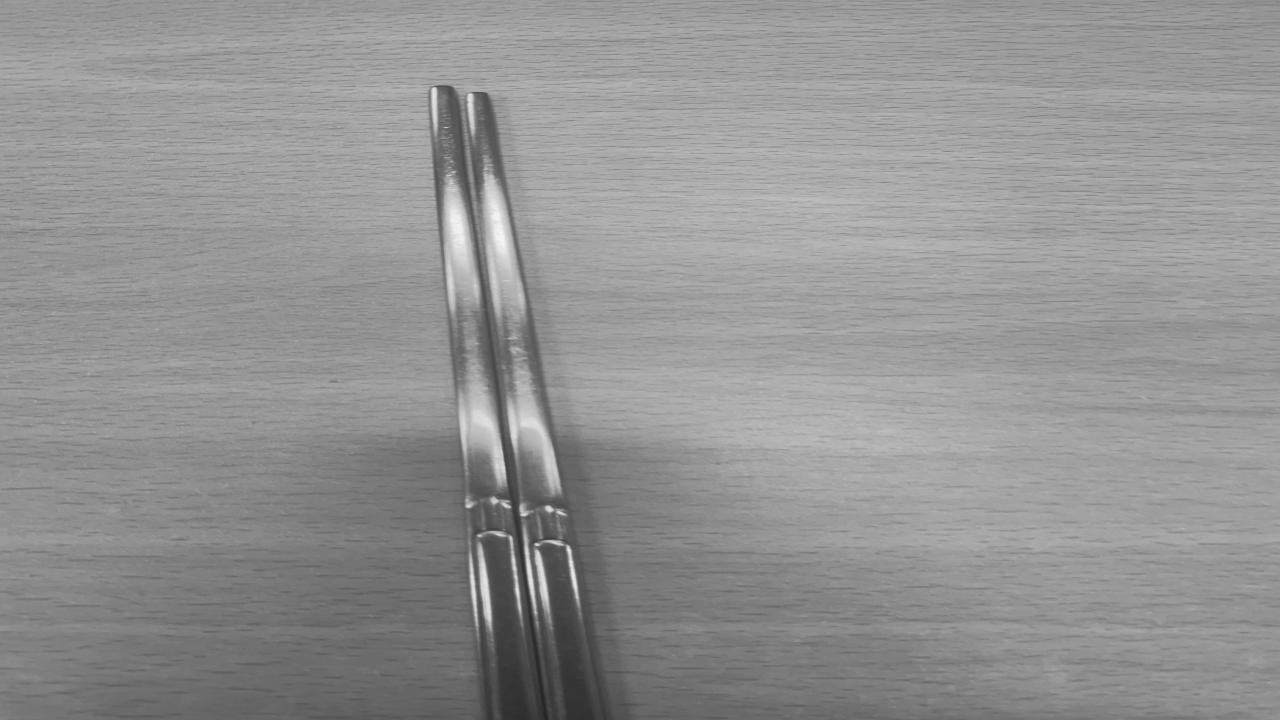chopstick: (432, 88, 605, 716)
